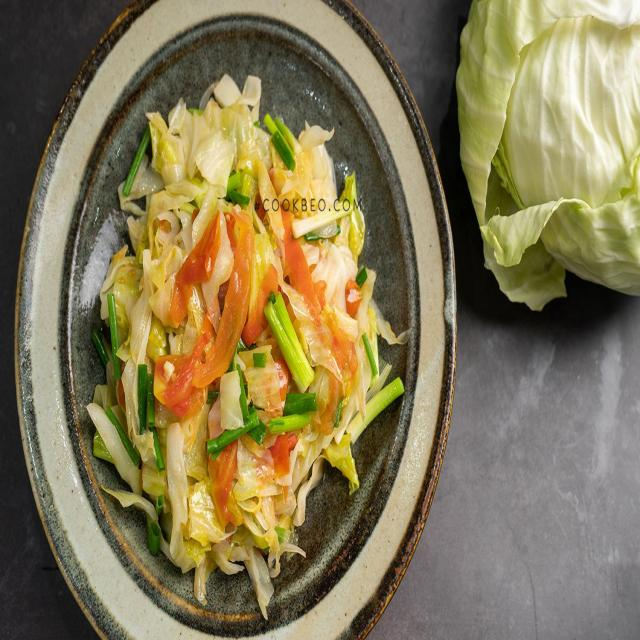bap cai xao: (87, 75, 404, 616)
